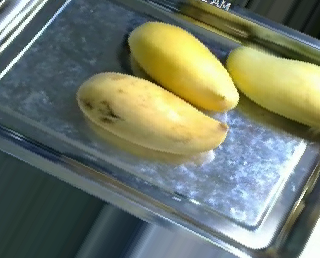Mango: (68, 59, 227, 166), (122, 17, 241, 121), (224, 37, 320, 131)
